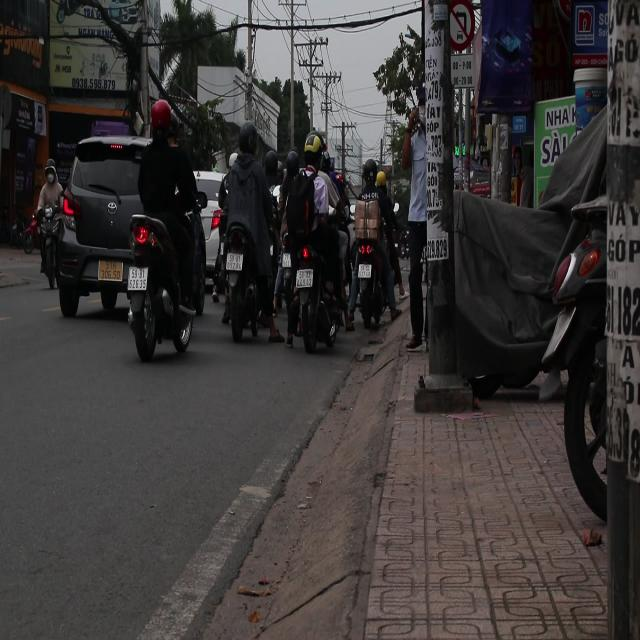car: (51, 135, 150, 321), (193, 170, 227, 227)
motorbike: (124, 199, 199, 365), (226, 213, 268, 347), (290, 248, 333, 371), (355, 230, 395, 344), (32, 198, 66, 278), (17, 210, 41, 256)
